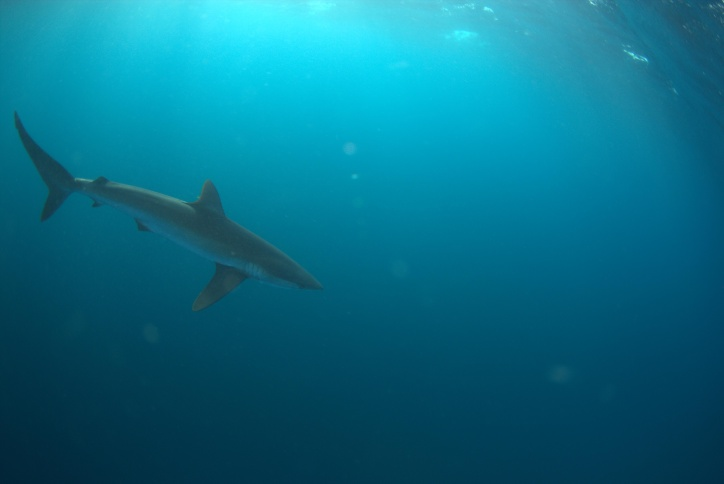Sedoso: (5, 105, 337, 323)
